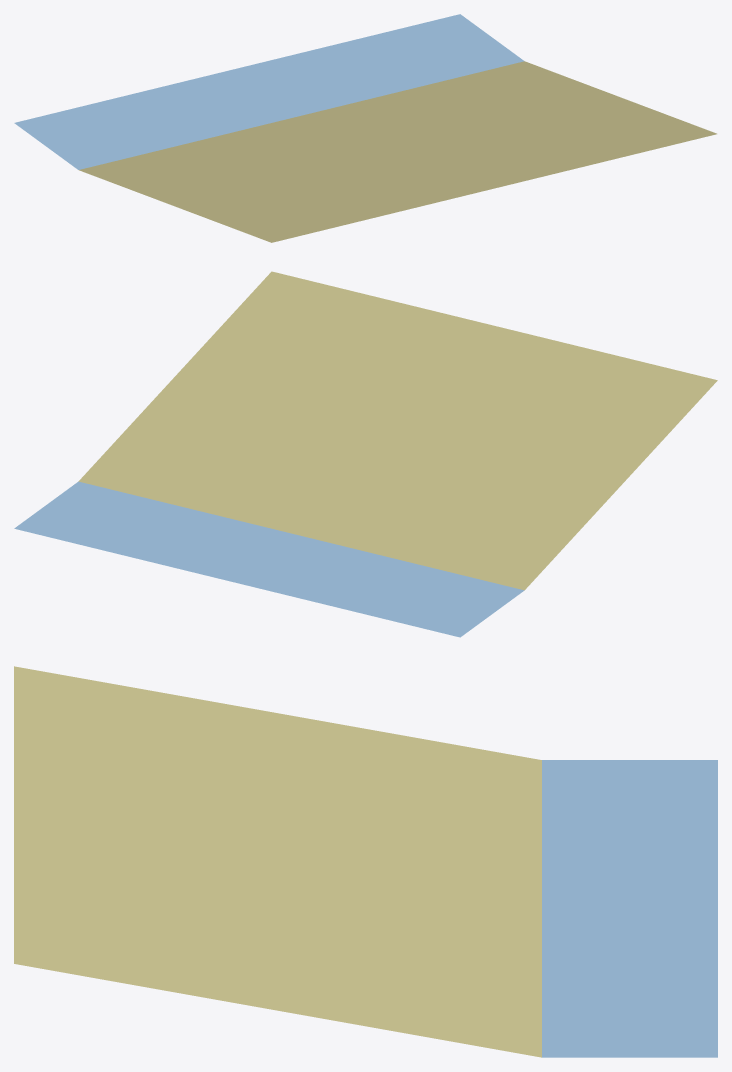
File: beach_tile_1x1_007.glb
3 renders of one model, top to bottom at view 1: azimuth 30°, elevation 25°; view 2: azimuth 150°, elevation 25°; view 3: azimuth 270°, elevation 25°, orthographic. The views are drawn at different scales.
Visible parts, largest first — view 1: beach_tile_1x1_007(Clone); view 2: beach_tile_1x1_007(Clone); view 3: beach_tile_1x1_007(Clone).
Part boxes in pixels (bbox=[...]): beach_tile_1x1_007(Clone): bbox=[14, 14, 716, 242]; beach_tile_1x1_007(Clone): bbox=[14, 271, 717, 637]; beach_tile_1x1_007(Clone): bbox=[14, 666, 717, 1057].
Bounding box in the file's own units: 8 × 1.18 × 8.
Materials: 1 (1 with a texture image).
